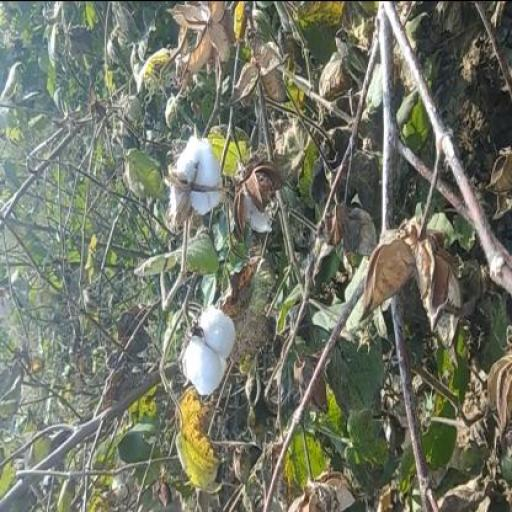cotton_ready: (178, 272, 252, 410), (168, 110, 218, 235)
